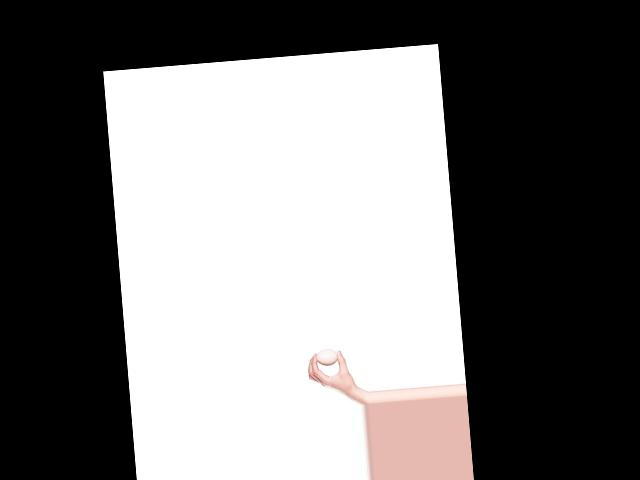egg: (316, 348, 338, 366)
